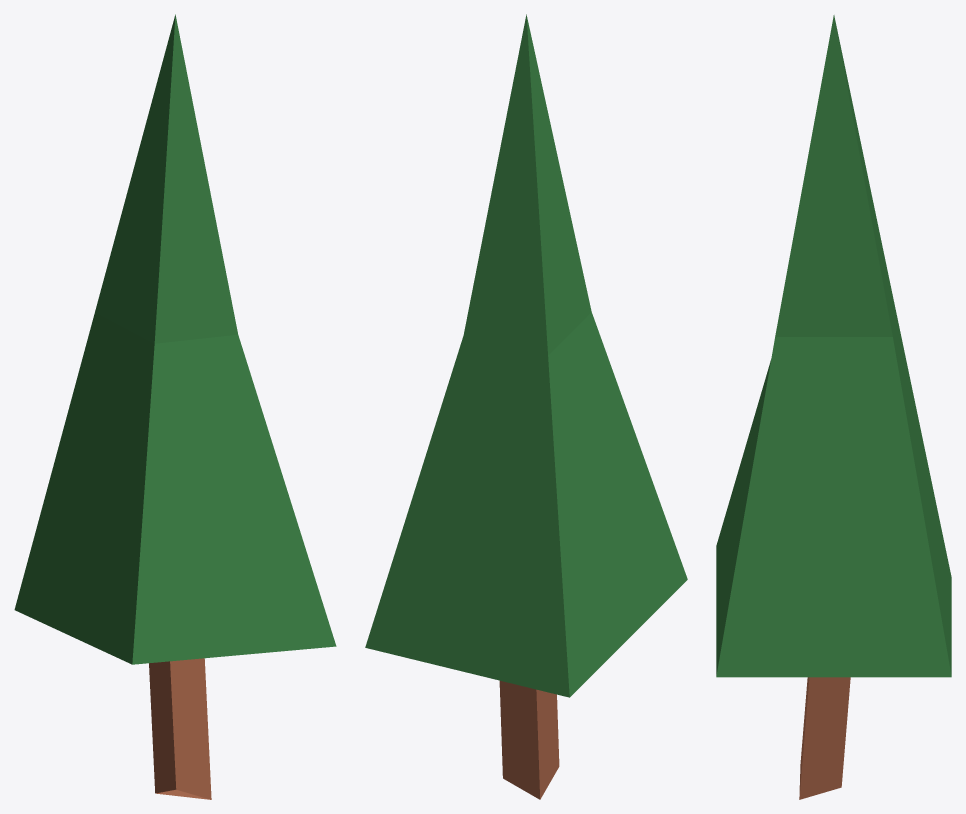
Rendered from Pine.fbx.
The picture shows the model from 3 angles, left to right: view 1: azimuth 30°, elevation 25°; view 2: azimuth 150°, elevation 25°; view 3: azimuth 270°, elevation 25°; orthographic projection.
Visible parts, largest first — view 1: Pine 1; view 2: Pine 1; view 3: Pine 1.
Boxes of the visible parts, bbox=[...] form: Pine 1: bbox=[14, 14, 336, 799]; Pine 1: bbox=[365, 14, 687, 799]; Pine 1: bbox=[716, 15, 951, 799].
Bounding box in the file's own units: 80 × 291 × 80.
